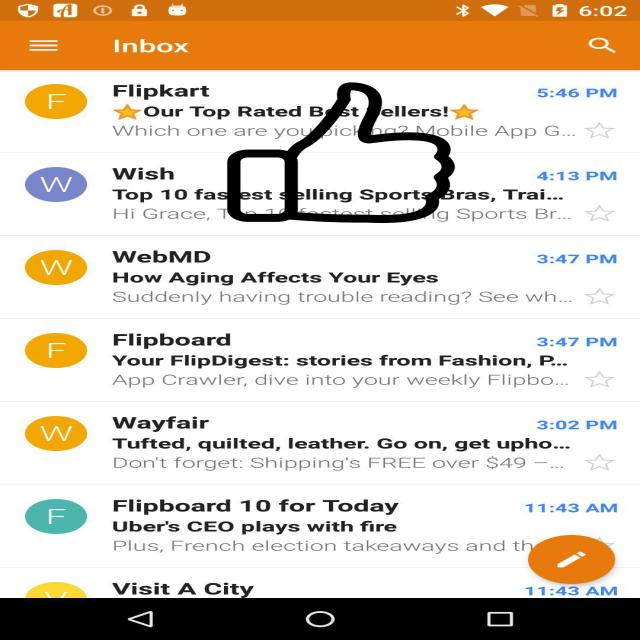privacy zuckering: (224, 82, 458, 223)
